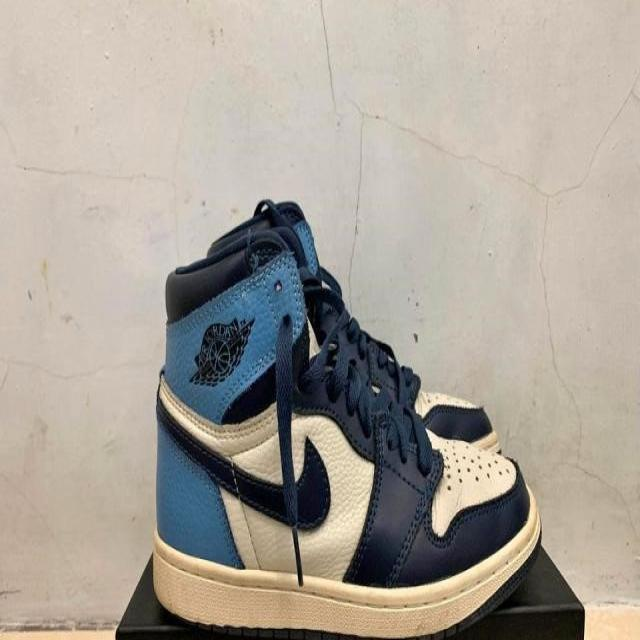J1_InsoleChar: (148, 197, 544, 638)
J1_MateComp: (114, 536, 584, 639)
J1_ShoeLogo: (187, 314, 256, 387)
J1_StitchPattern: (157, 375, 521, 585), (163, 244, 312, 585), (412, 392, 518, 522), (270, 312, 308, 588), (318, 316, 402, 410), (437, 442, 515, 493)
